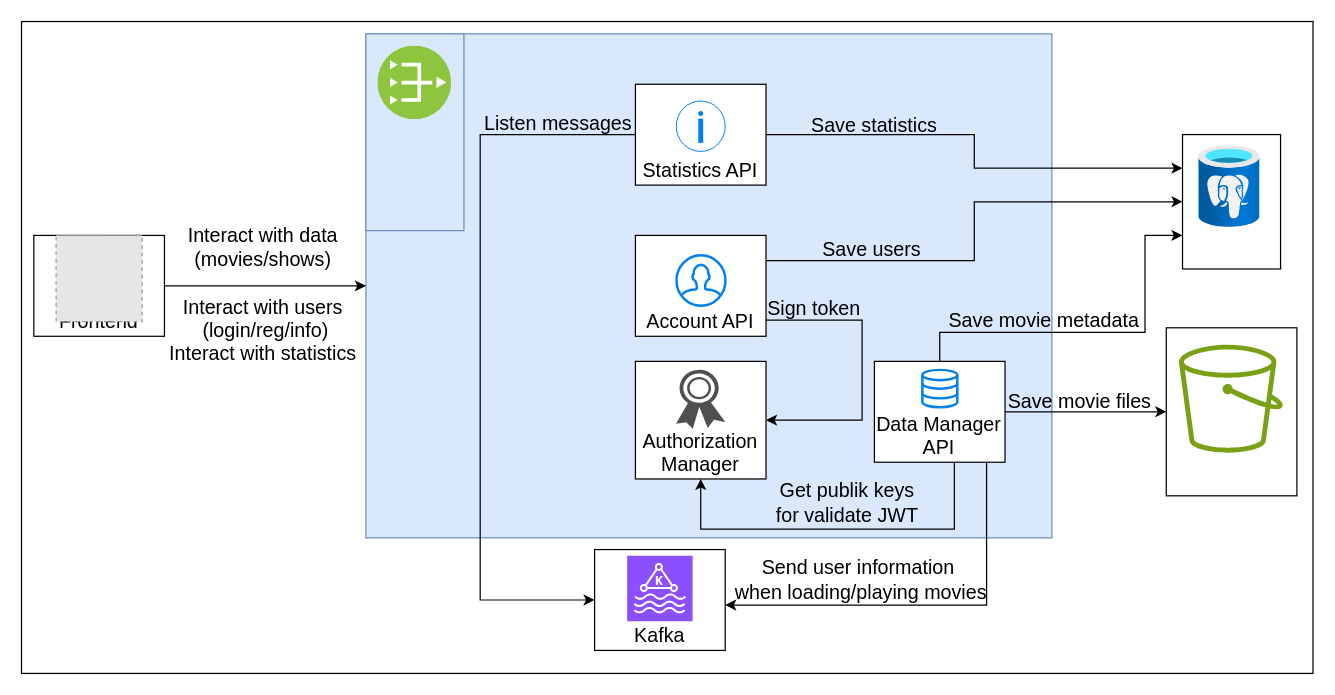
This 1335x695 diagram has some shape labels left out. Grey dashed boxes stand in for pictures. The centre of each missing label's shape, as x and y in pixels:
Database: the point at 1229,186
MinIo Storage: the point at 1230,398
Service Discovery API GetWay: the point at 414,82
